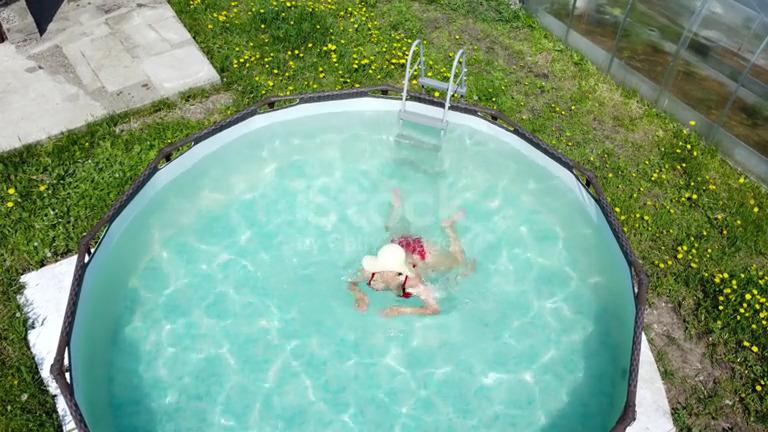Swimming: (285, 199, 493, 316)
